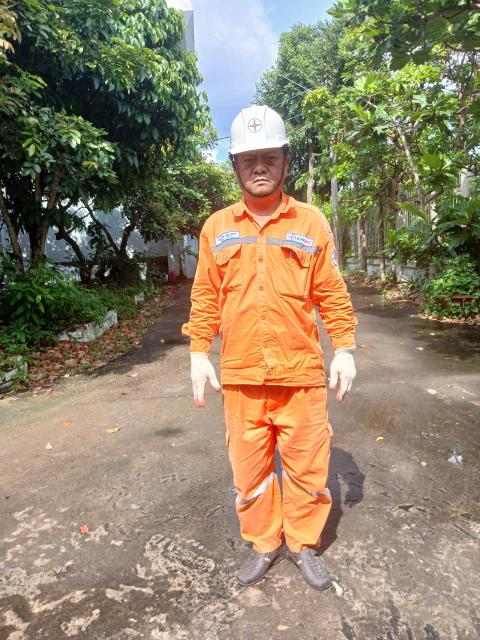gloves: (319, 340, 366, 401), (186, 343, 220, 419)
helmet: (224, 93, 294, 162)
shoes: (220, 520, 283, 588), (280, 535, 342, 594)
